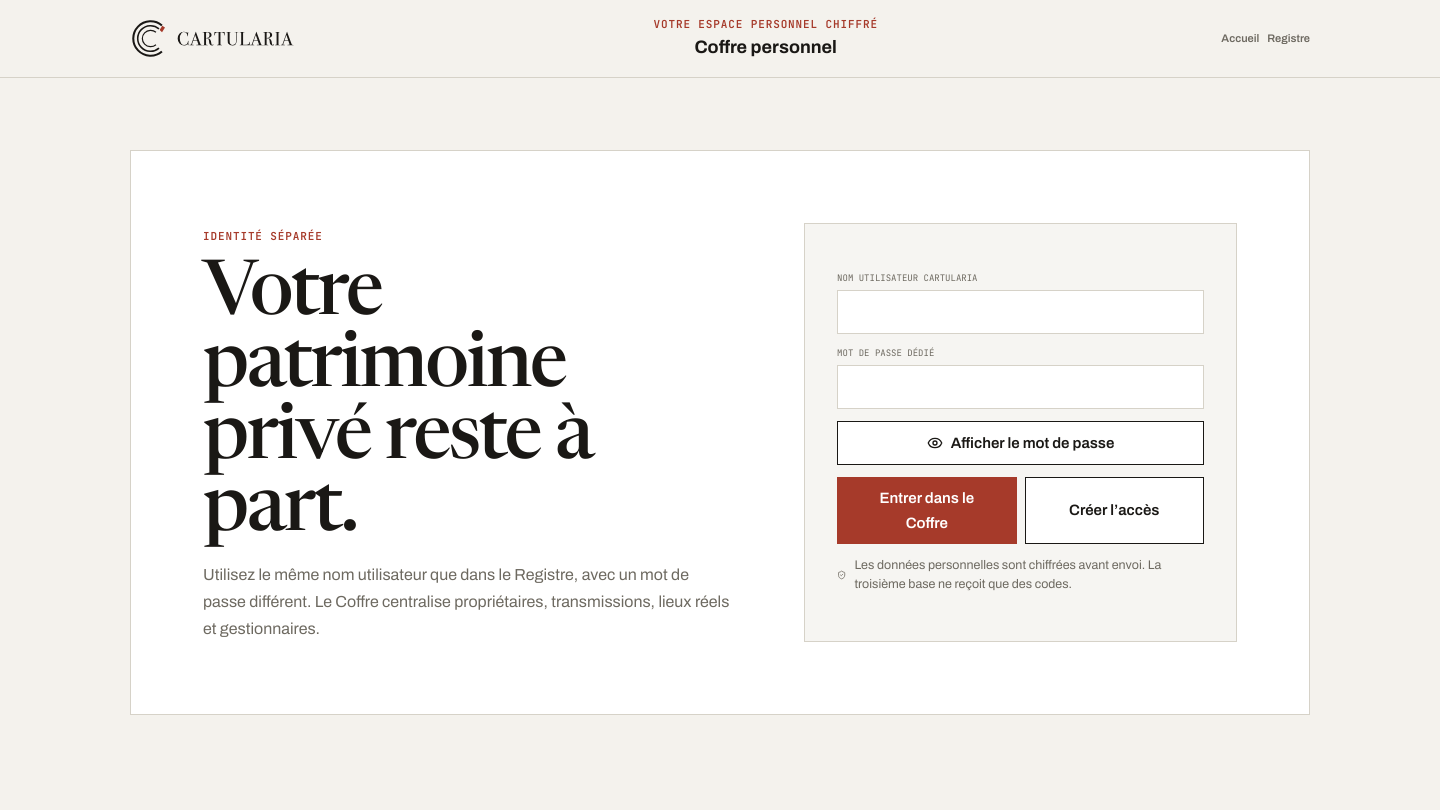
Test: AC01 : seule la clé de la session confirmée chiffre les données › écarte une réponse tardive pendant authentification puis permet une nouvelle ouverture
Type "atlas" into the field labelled "Nom utilisateur Cartularia" at point(1021, 312), box [837, 290, 1204, 334]
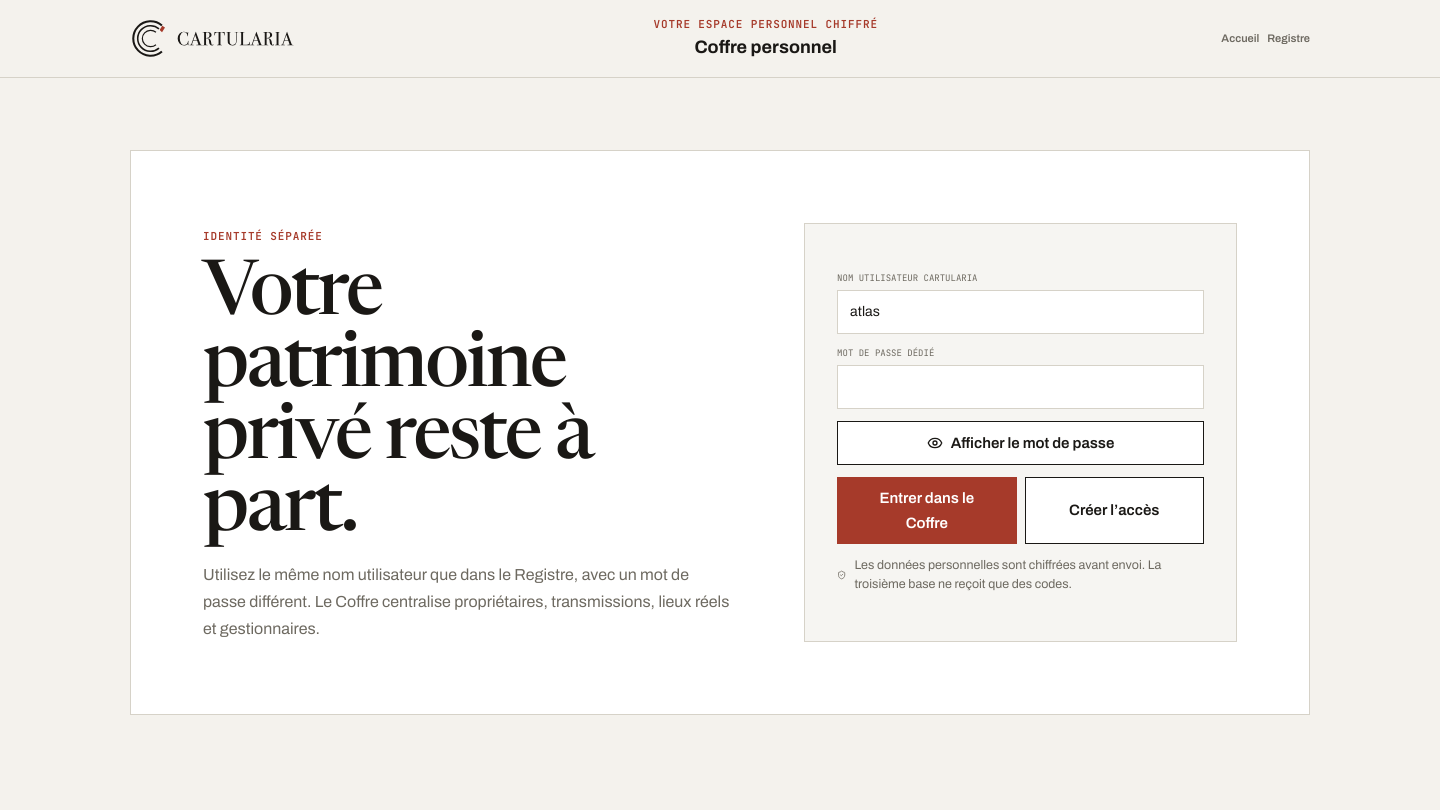
Type "auth-password-original" into the password field labelled "Mot de passe dédié" at point(1021, 387), box [837, 365, 1204, 409]
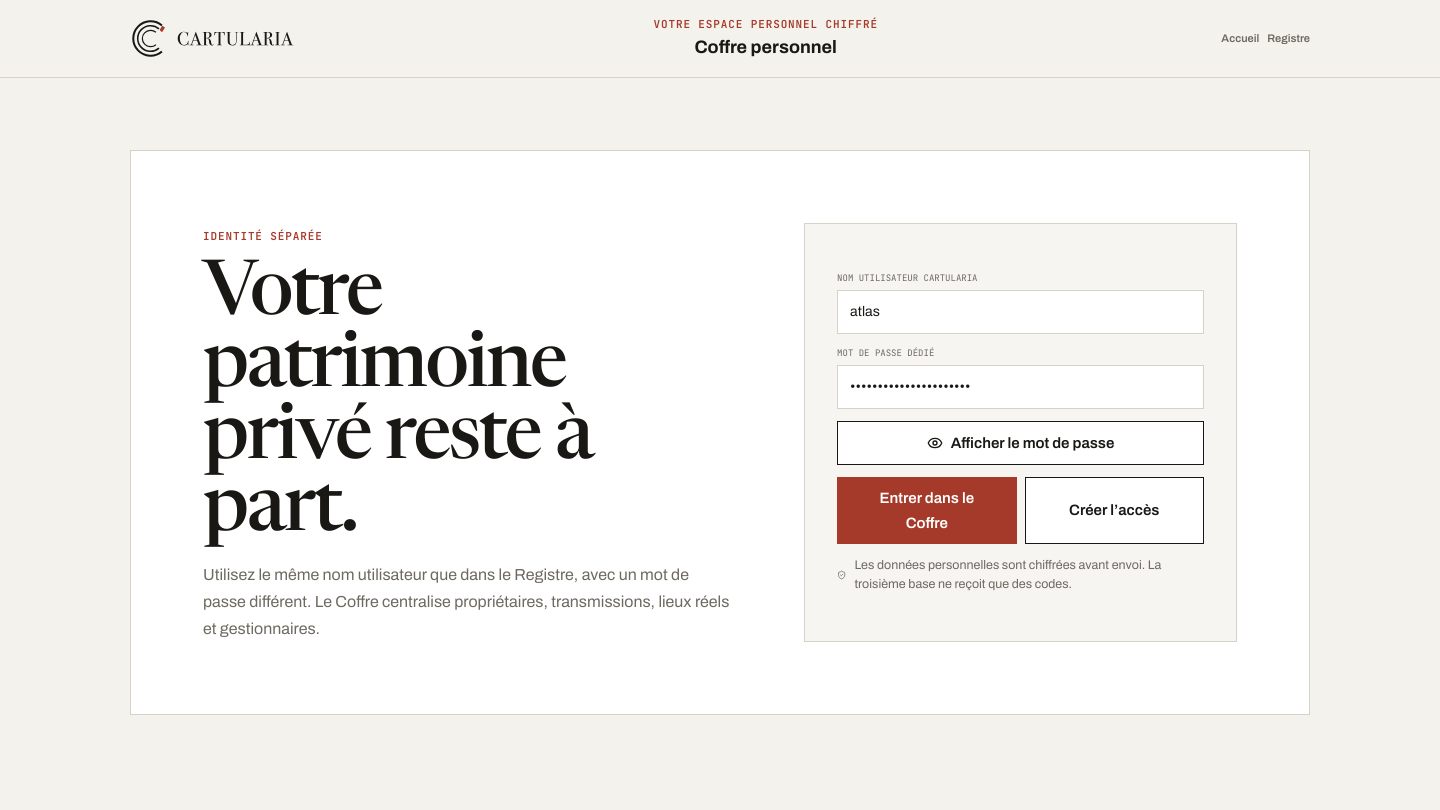
Click the button "Entrer dans le Coffre" at point(927, 511), box [837, 477, 1017, 544]
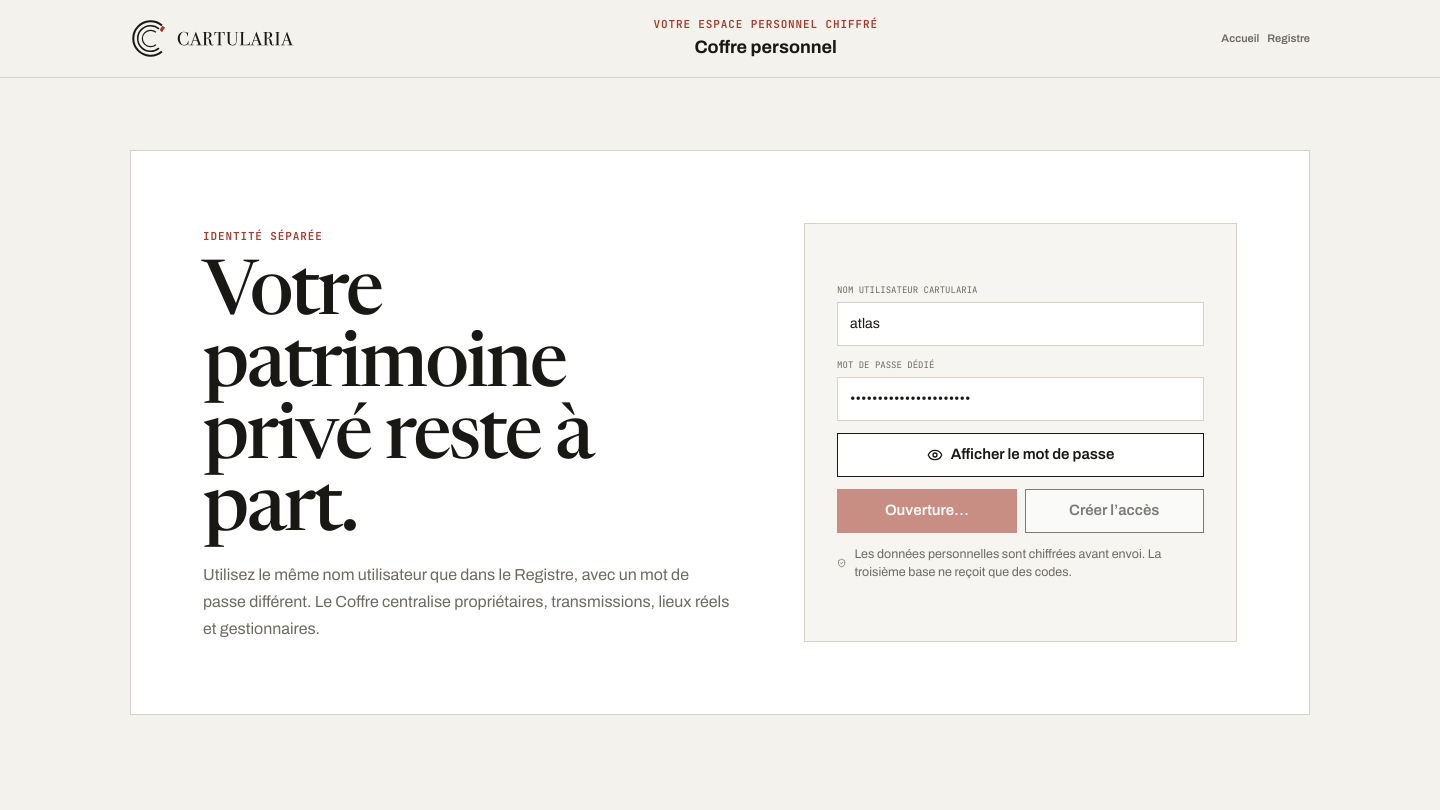
Expected: the password field labelled "Mot de passe dédié" is disabled
Type "saisie-pendant-attente" into the password field labelled "Mot de passe dédié" at point(1021, 399), box [837, 377, 1204, 421]
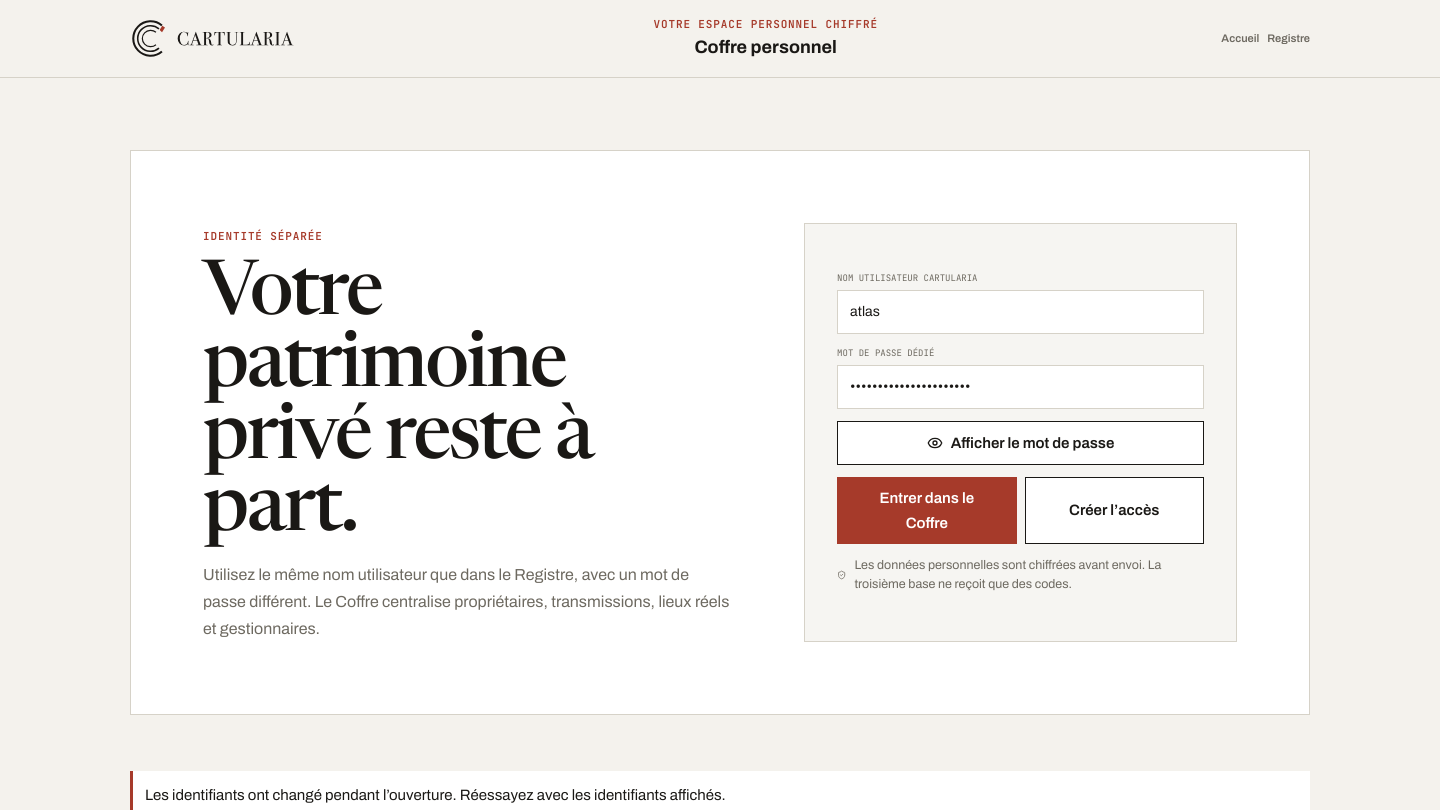
Expected: the heading "Propriétaires des biens" is not shown
Expected: the message shows "identifiants ont changé", [145, 787, 726, 803]
Click the button "Entrer dans le Coffre" at point(927, 511), box [837, 477, 1017, 544]
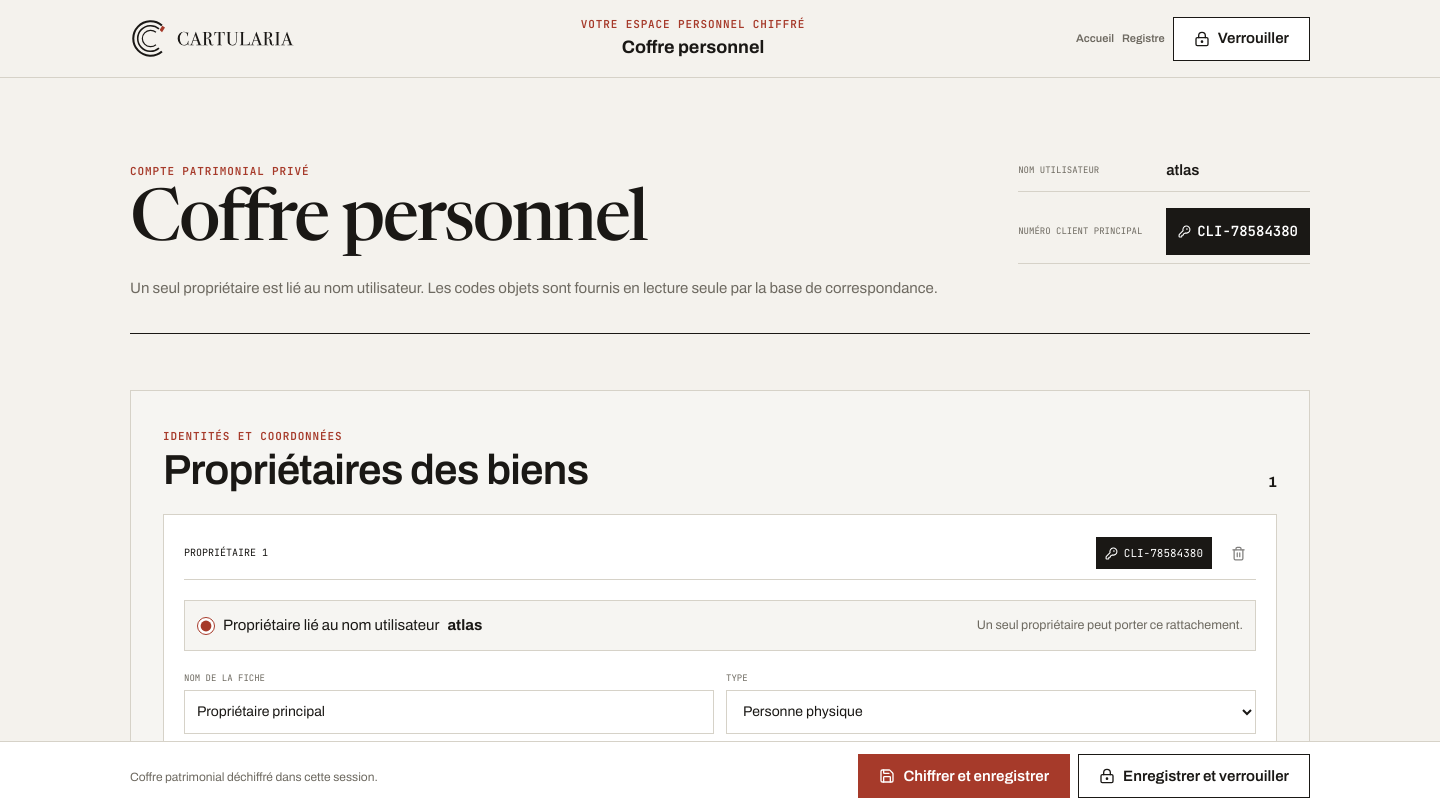
Expected: the heading "Propriétaires des biens" is shown, [163, 447, 588, 494]
